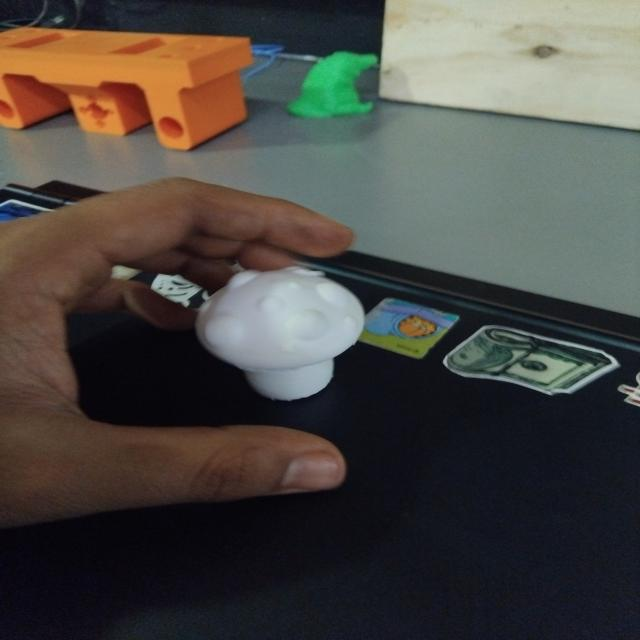Hongo: (175, 257, 375, 403)
